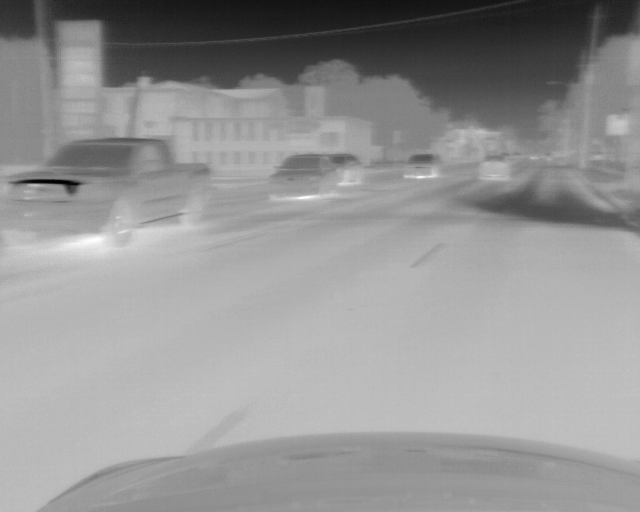car: (1, 135, 214, 250), (264, 154, 338, 199), (329, 153, 368, 187), (402, 151, 440, 178), (476, 153, 510, 182)
